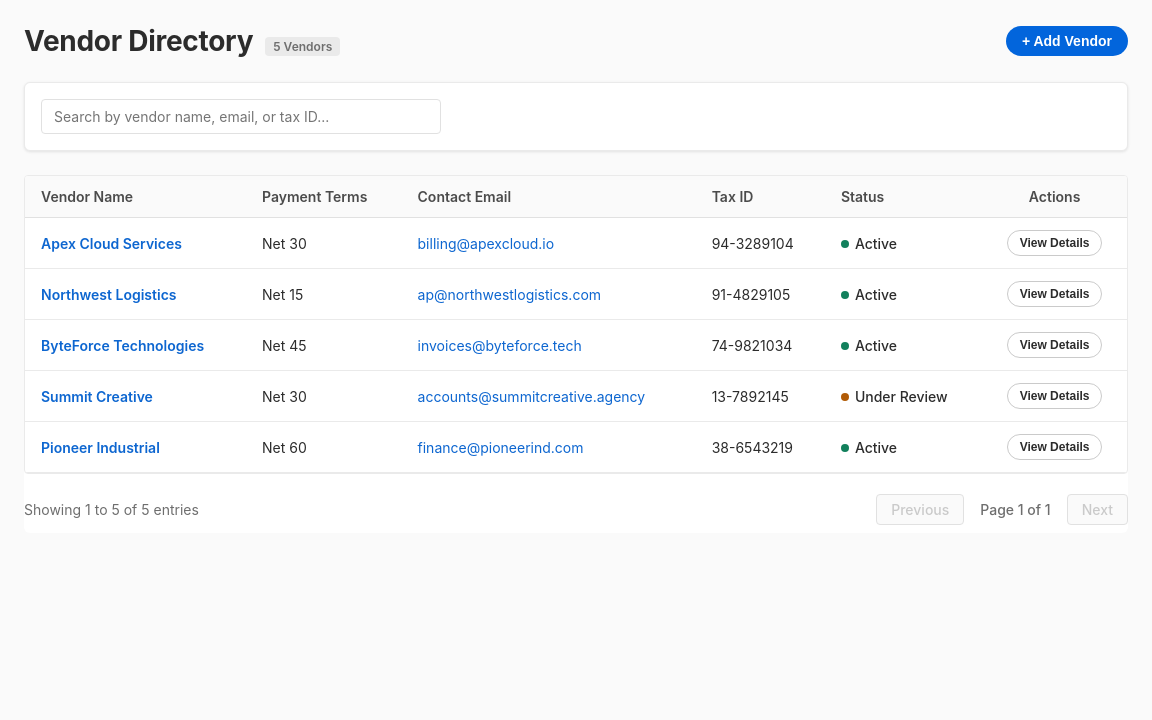
Scenario: VendorsPage › Search & Filtering › filters vendors by contact email search query
expect the text "Apex Cloud Services" is shown: met, box [41,234,182,252]
Type "northwestlogistics.com" into the search field with test id "vendor-search-input" at {"x": 241, "y": 116}, box [41,99,441,134]
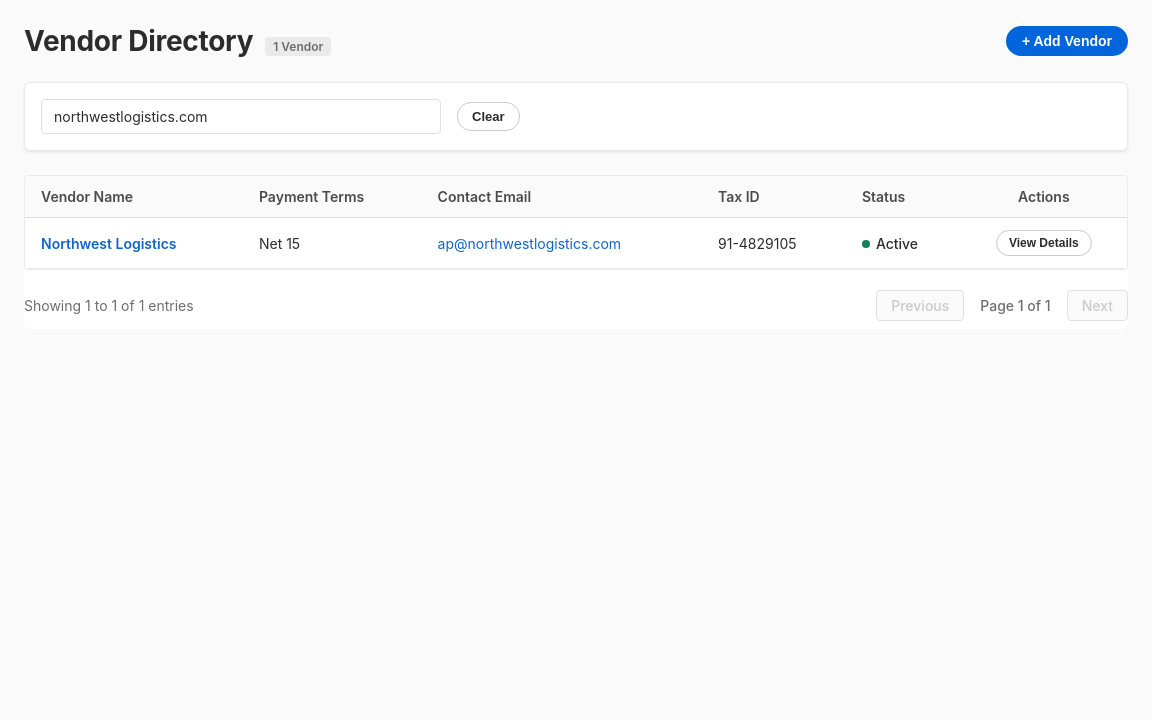
expect the text "Northwest Logistics" is shown: met, box [41,234,176,252]
expect the text "Apex Cloud Services" is gone: met
